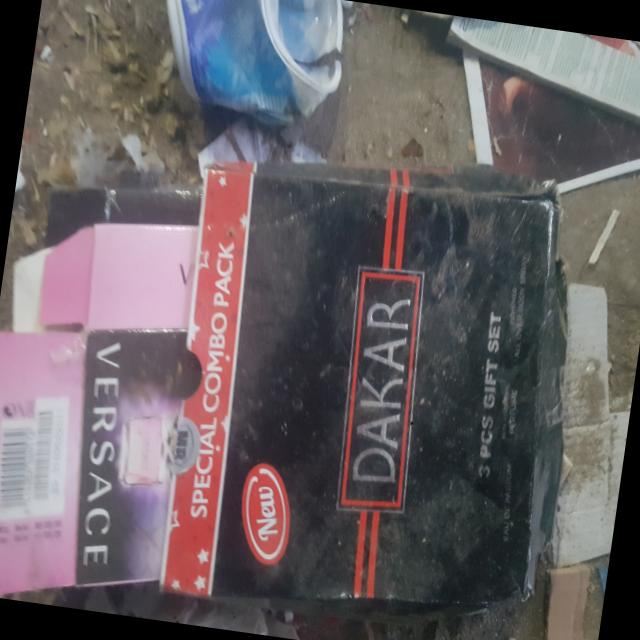electronic: (147, 132, 602, 640), (148, 0, 352, 131), (437, 15, 640, 141), (168, 594, 272, 636), (12, 142, 30, 216)
